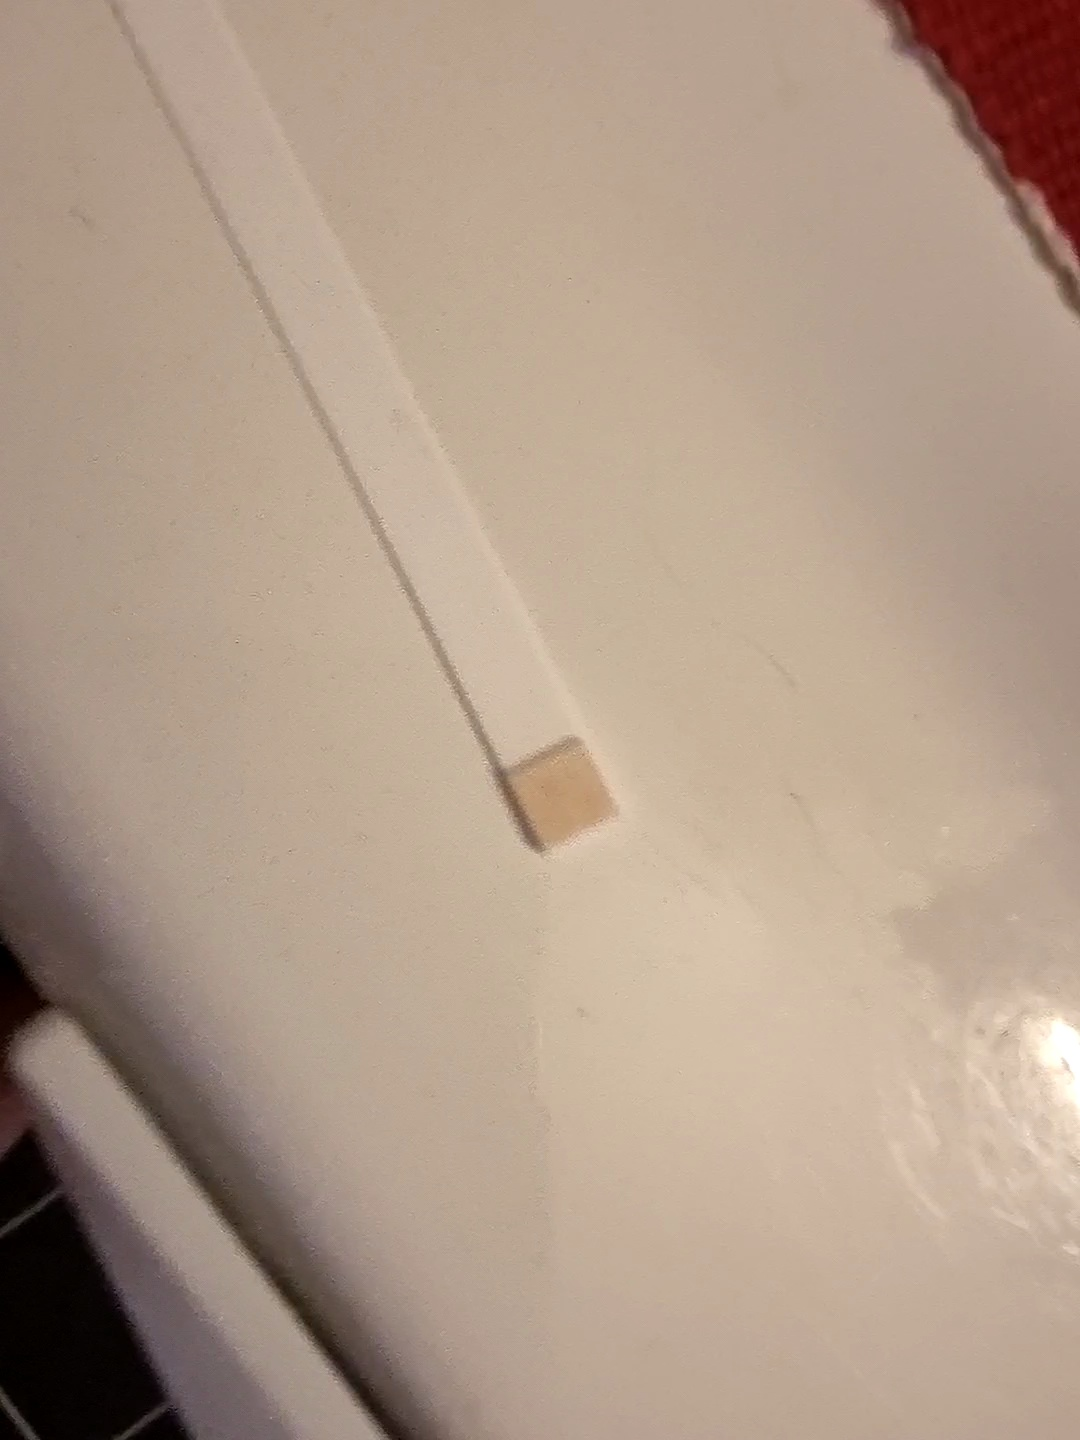keto-tip: (490, 732, 631, 857)
